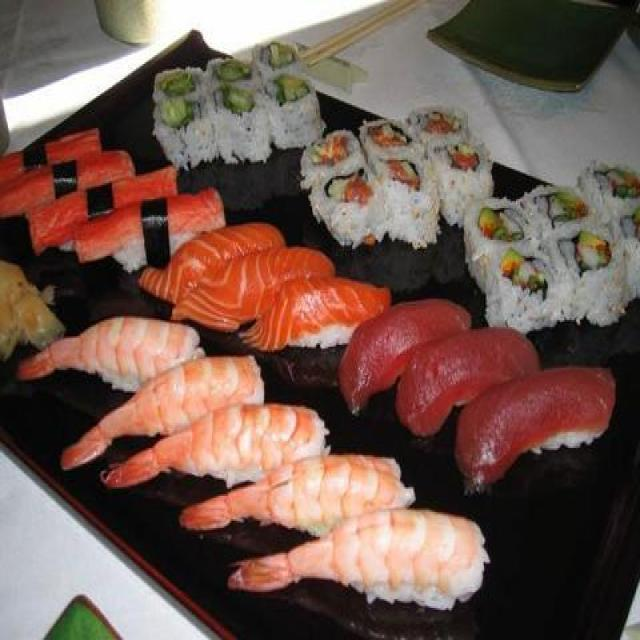寿司卷物: (0, 23, 640, 597)
